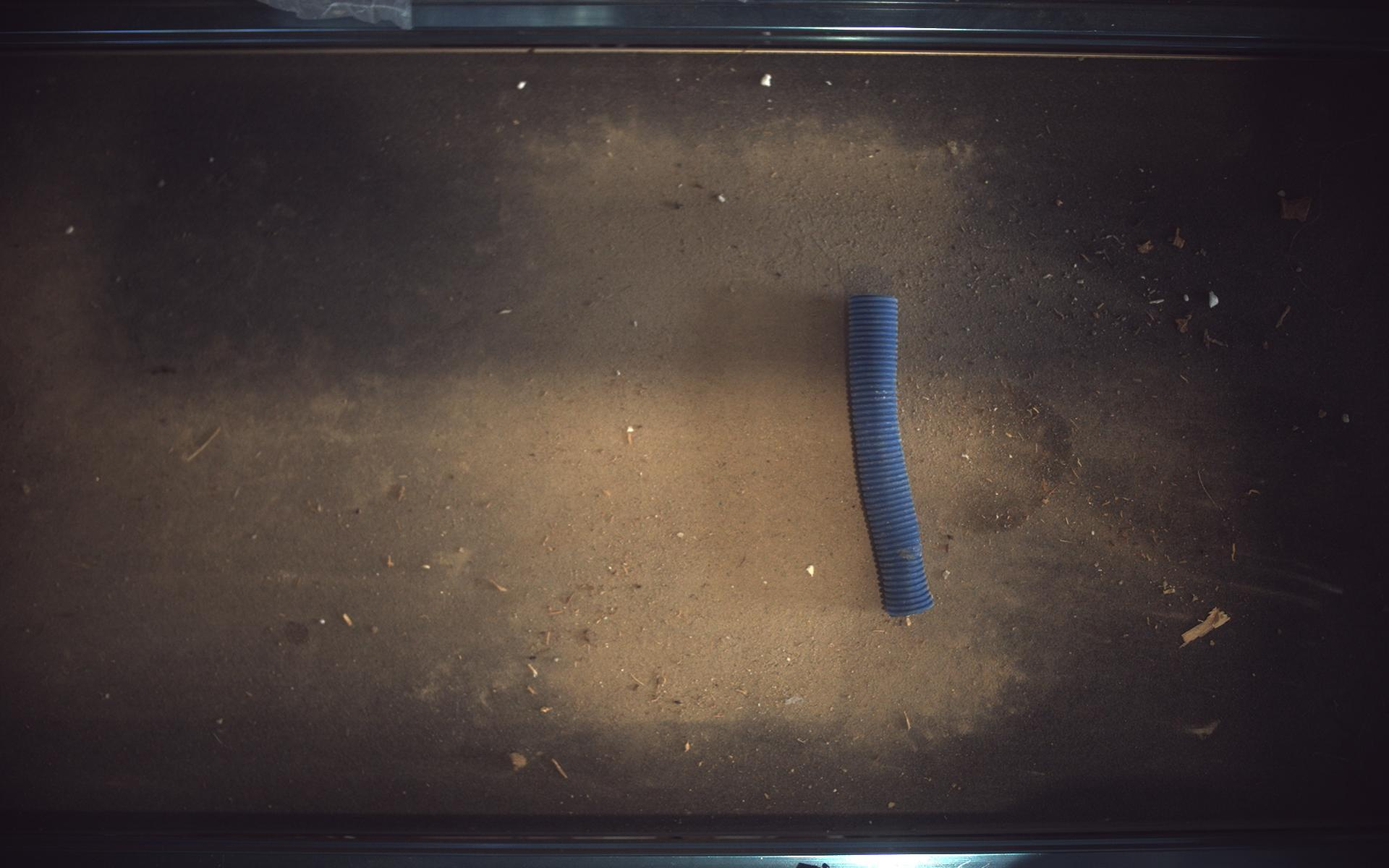pipes: (849, 295, 935, 617)
